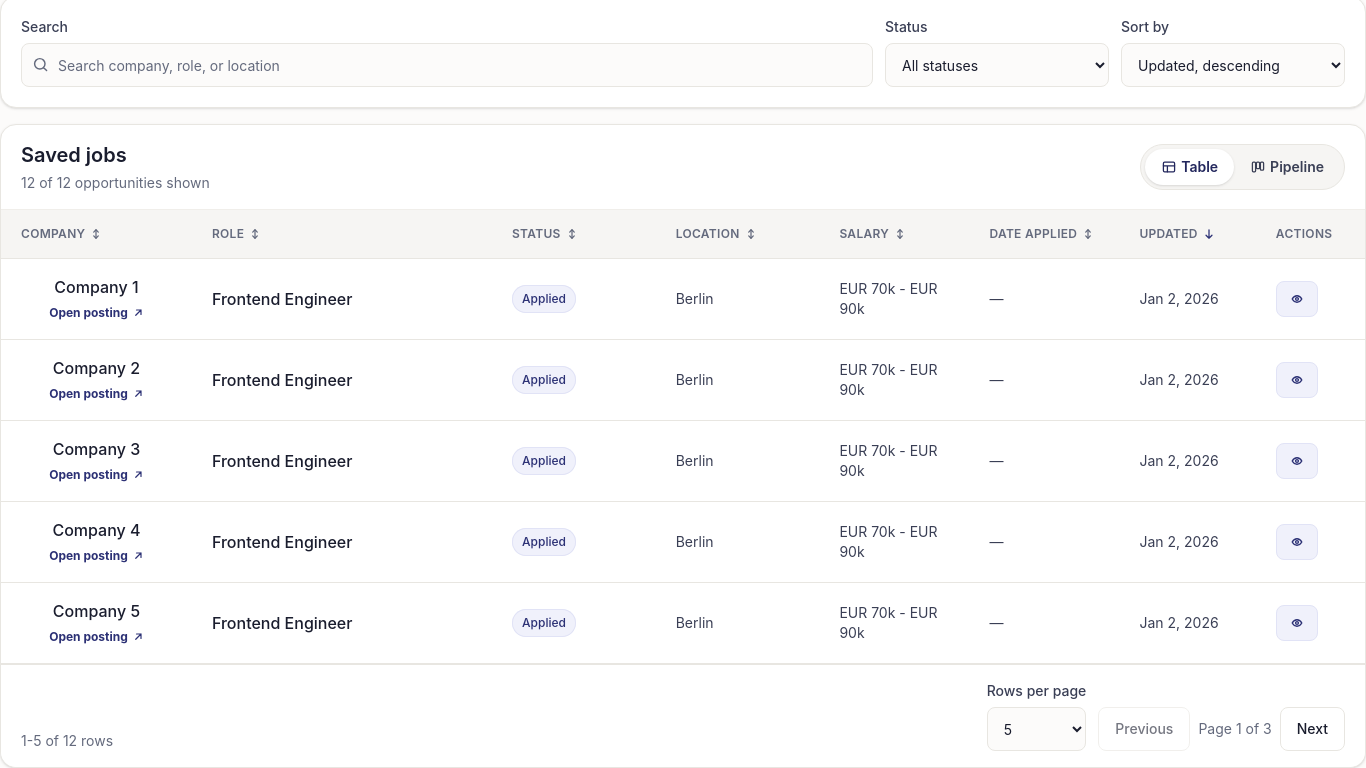
Scenario: JobsPage › goes back to the first page when the status filter changes
This screenshot has width=1366, height=768.
(page scrolled)
Click the button "Next" at (1312, 729), box 1280,707 -> 1345,751
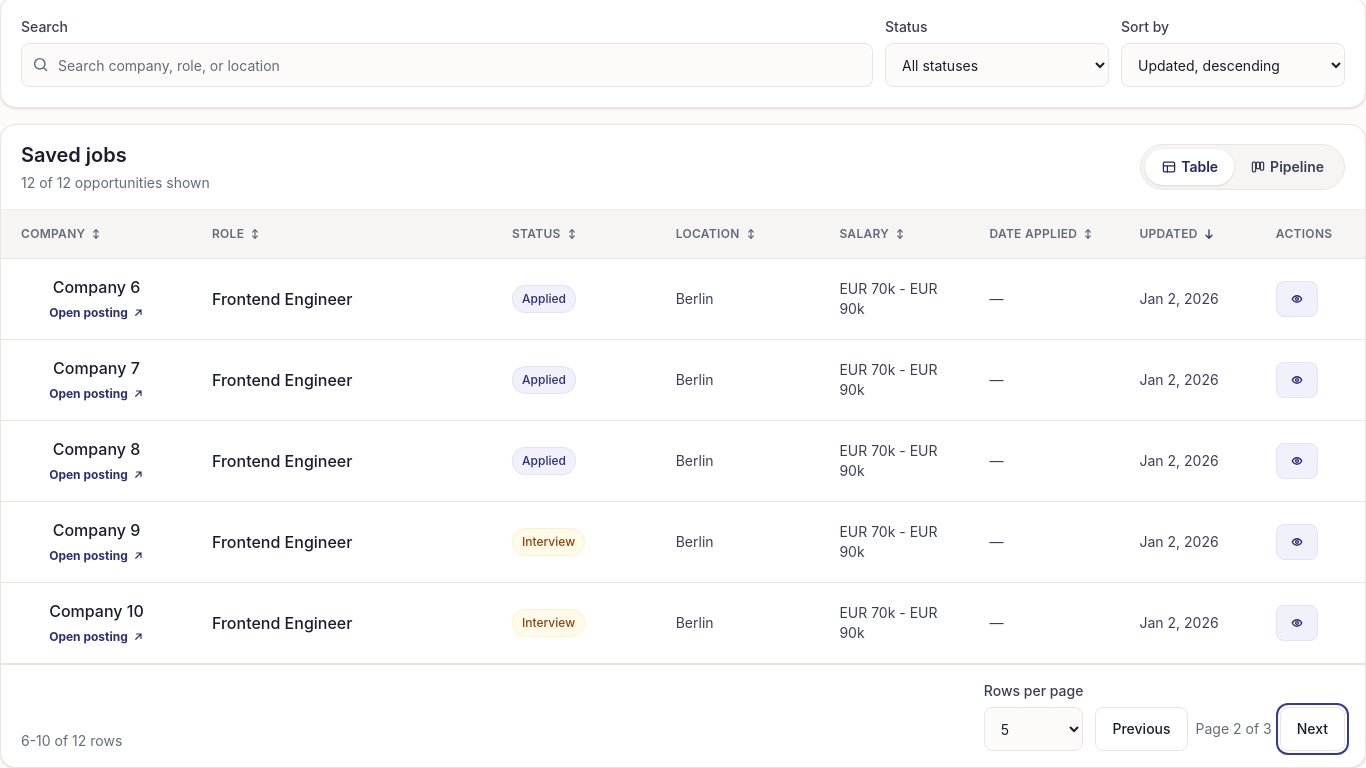
Check: the text "Page 2 of 3" is shown, box 1196,719 -> 1272,739
Select "Applied" in the dropdown labelled "Status" at (997, 65), box 885,43 -> 1109,87
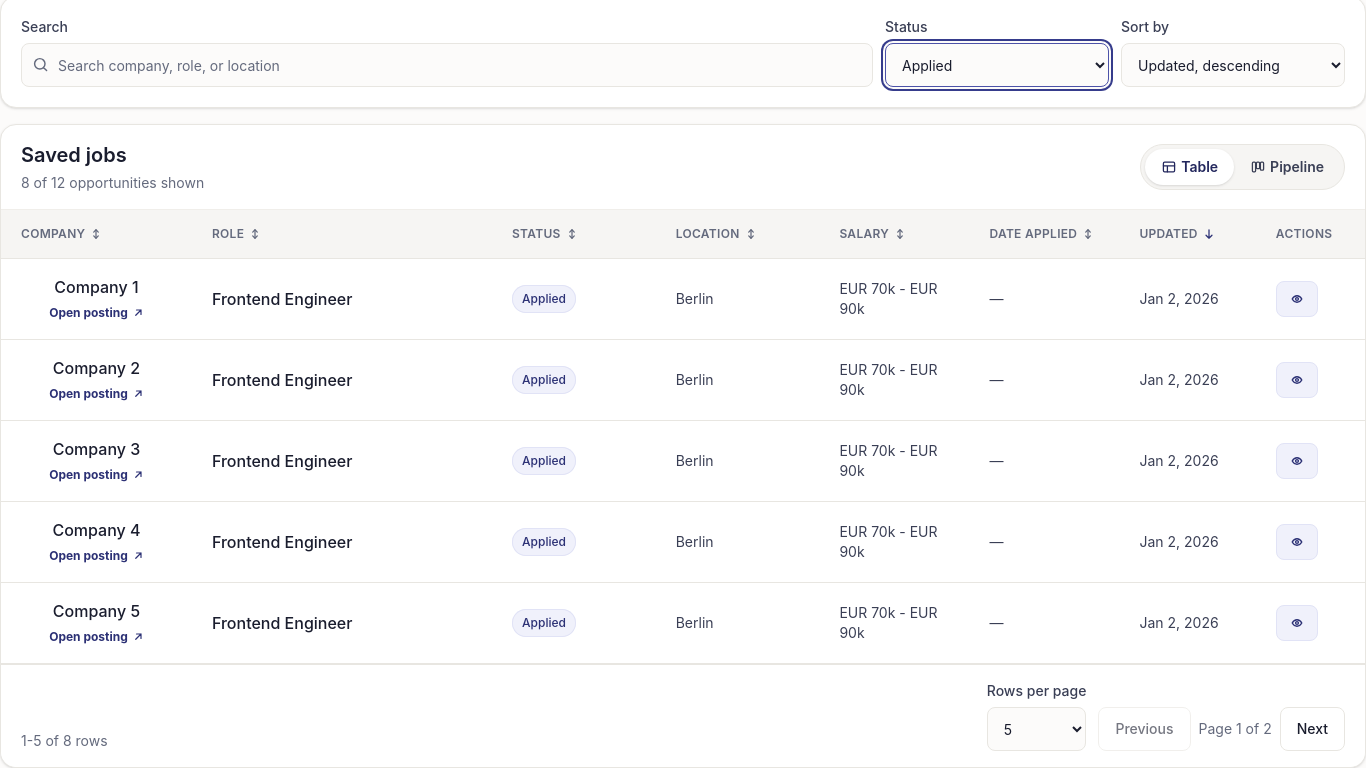
Check: the text "Page 1 of 2" is shown, box 1198,719 -> 1272,739
